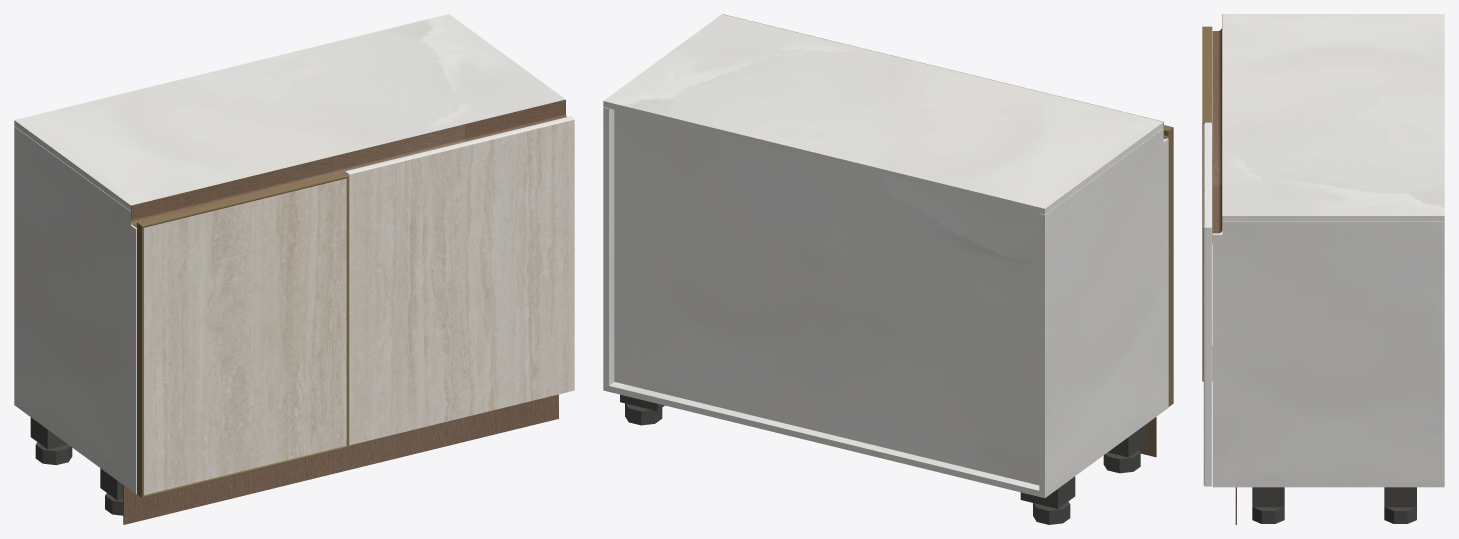
Rendered from BB-SH-CJ-ST-1SX-RHS-XXX-1150-720-560-15.glb.
The picture shows the model from 3 angles, left to right: view 1: azimuth 30°, elevation 25°; view 2: azimuth 150°, elevation 25°; view 3: azimuth 270°, elevation 25°; orthographic projection. The views are drawn at different scales.
Visible parts, largest first — view 1: TP_node_3, Object_node_11, TP_node_1, TP_node, Object_node_13, ExtrSplGeo, Extrusion_node_1, Extrusion, ALU PROF FOR SHUTTER 851P IMP_node_1, TP, Extrusion_node, Foot (+1 smaller); view 2: TP_node_4, TP_node_1, TP_node, TP, TP_node_0, Extrusion_node_1, Plate, Foot, Foot_node_0; view 3: TP_node_0, TP_node_1, ExtrSplGeo, ALU PROF FOR SHUTTER 851P IMP, TP, Extrusion, ALU PROF FOR SHUTTER 851P IMP_node_1, TP_node_3, Plate_node, Plate_node_1, Extrusion_node, Foot_node_1 (+1 smaller).
Part boxes in pixels (x1,y1,x2,y2): TP_node_3: (349, 119, 574, 445); Object_node_11: (144, 178, 346, 494); TP_node_1: (14, 14, 565, 211); TP_node: (14, 126, 136, 488); Object_node_13: (123, 394, 558, 524); ExtrSplGeo: (131, 99, 566, 227); Extrusion_node_1: (137, 223, 143, 497); Extrusion: (137, 172, 348, 227); ALU PROF FOR SHUTTER 851P IMP_node_1: (345, 116, 573, 174); TP: (14, 399, 136, 493); Extrusion_node: (346, 176, 348, 447); Foot: (35, 442, 72, 465); TP_node_4: (614, 110, 1039, 485); TP_node_1: (603, 14, 1163, 214); TP_node: (1039, 128, 1168, 491); TP: (603, 382, 1168, 497); TP_node_0: (603, 107, 614, 385); Extrusion_node_1: (1164, 127, 1173, 406); Plate: (1020, 476, 1075, 508); Foot: (1033, 501, 1070, 524); Foot_node_0: (1103, 450, 1140, 473); TP_node_0: (1212, 221, 1444, 481); TP_node_1: (1222, 14, 1444, 221); ExtrSplGeo: (1212, 14, 1222, 233); ALU PROF FOR SHUTTER 851P IMP: (1204, 227, 1211, 486); TP: (1212, 481, 1444, 487); Extrusion: (1202, 26, 1212, 122); ALU PROF FOR SHUTTER 851P IMP_node_1: (1204, 122, 1211, 227); TP_node_3: (1203, 123, 1204, 485); Plate_node: (1384, 487, 1416, 507); Plate_node_1: (1252, 487, 1284, 507); Extrusion_node: (1202, 122, 1212, 381); Foot_node_1: (1252, 507, 1284, 523).
Size of what is drawn, in the model's own units: 1.15 by 0.82 by 0.5834.
Materials: 7 (3 with a texture image).
